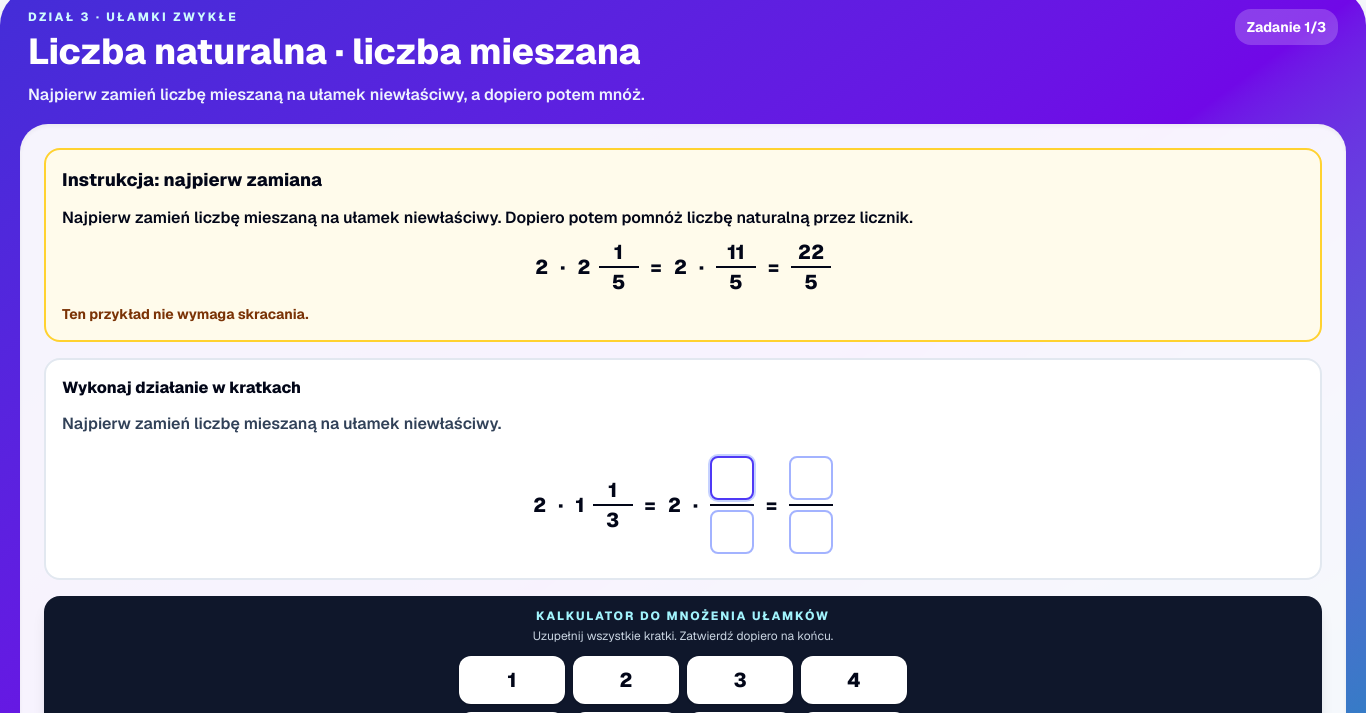
Scenario: FractionOperationsLessonModel › wymaga zamiany liczby mieszanej przed mnożeniem
expect the heading "Liczba naturalna · liczba mieszana" is shown: met, box x1=28 y1=29 x2=645 y2=74
expect the text "Najpierw zamień liczbę mieszaną na ułamek niewłaściwy" is shown: met, box x1=28 y1=84 x2=645 y2=105
Click the button "4": (854, 680) x1=801 y1=656 x2=907 y2=704
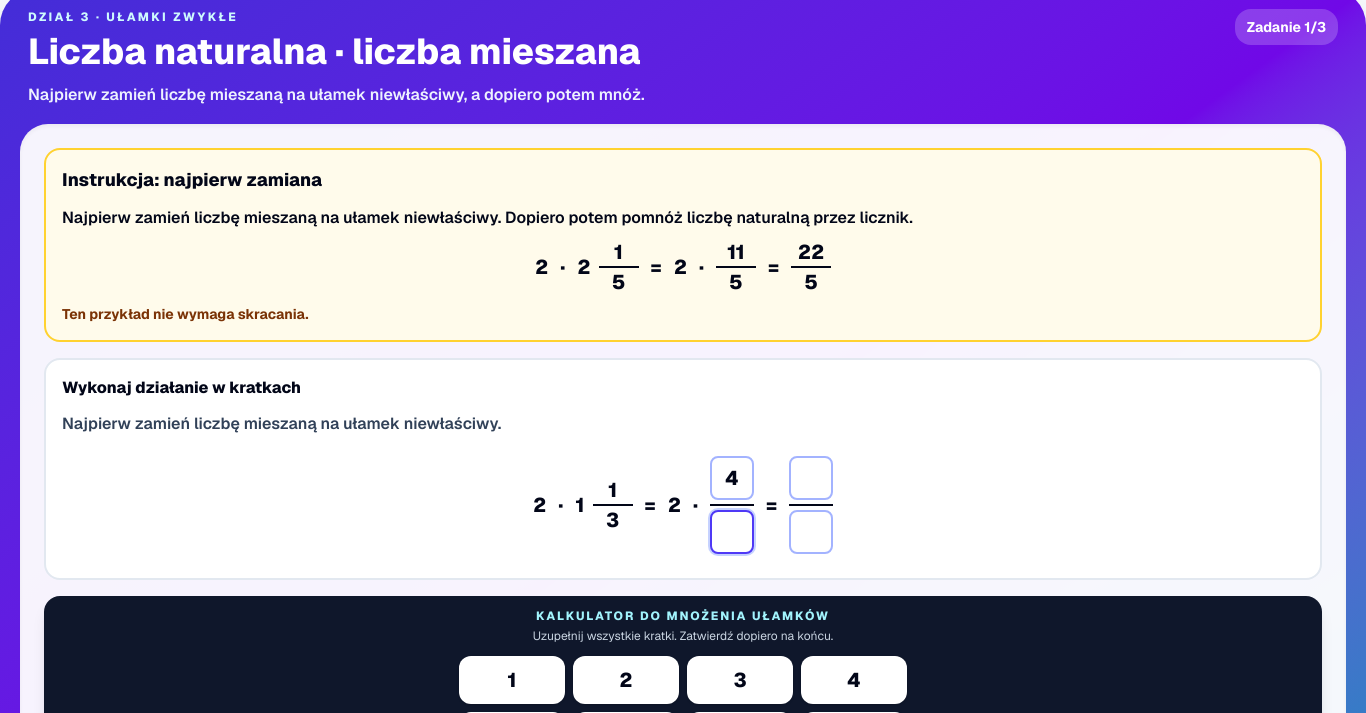
Click the button "3": (740, 680) x1=687 y1=656 x2=793 y2=704
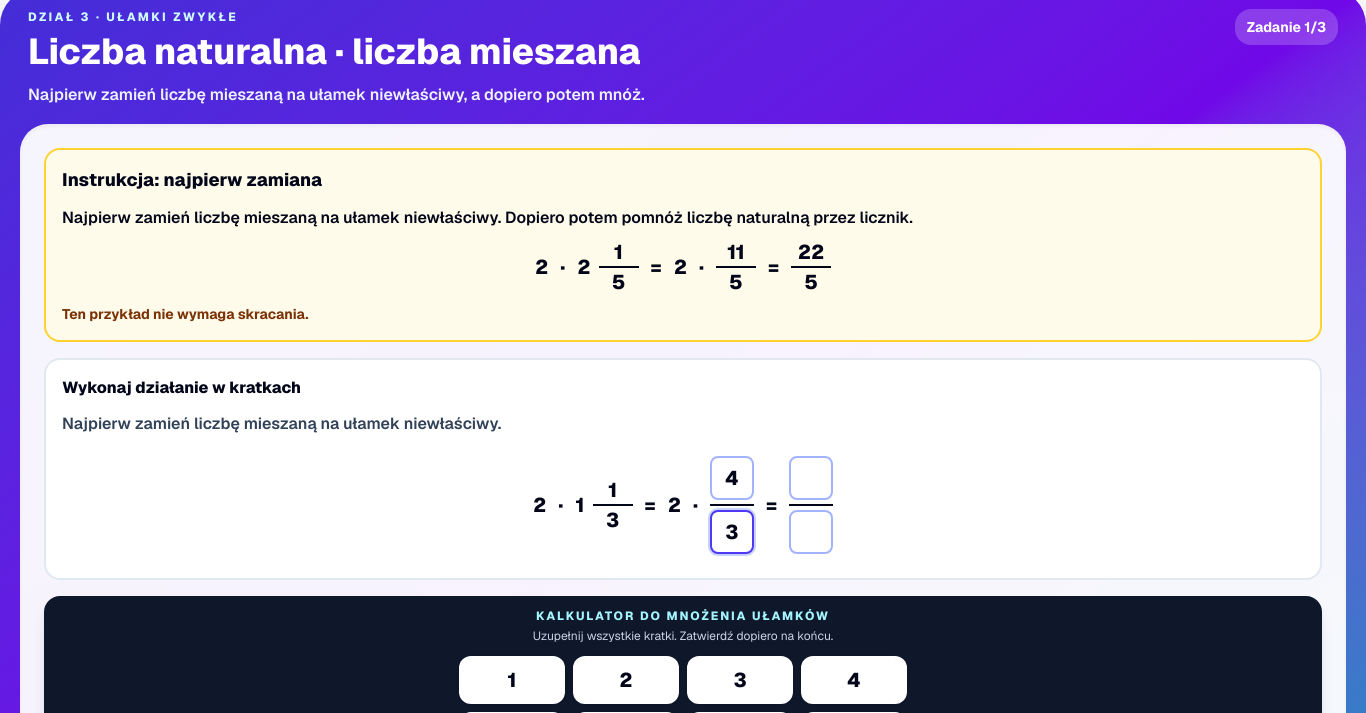
Click the field named "Wynik: licznik, cyfra 1 z 1": (811, 478) x1=789 y1=456 x2=833 y2=500
(page scrolled)
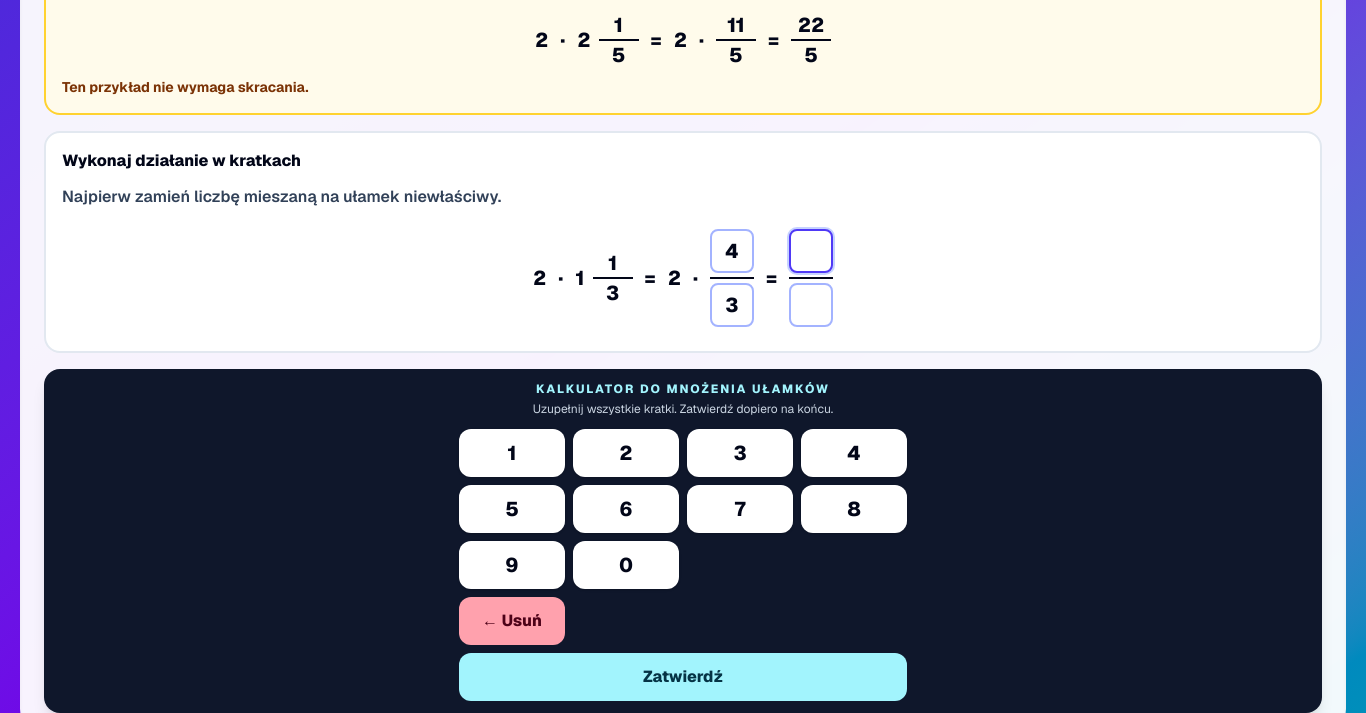
Click the button "8": (854, 509) x1=801 y1=485 x2=907 y2=533
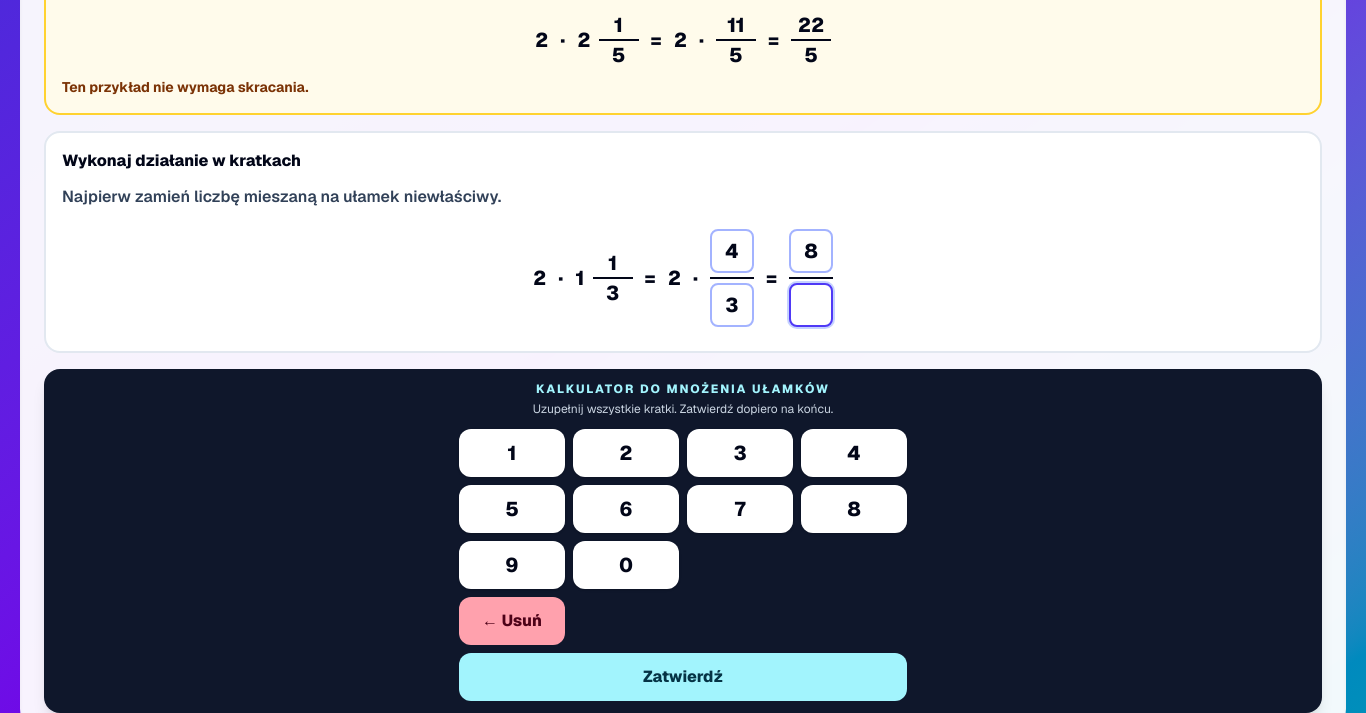
Click the button "3": (740, 453) x1=687 y1=429 x2=793 y2=477
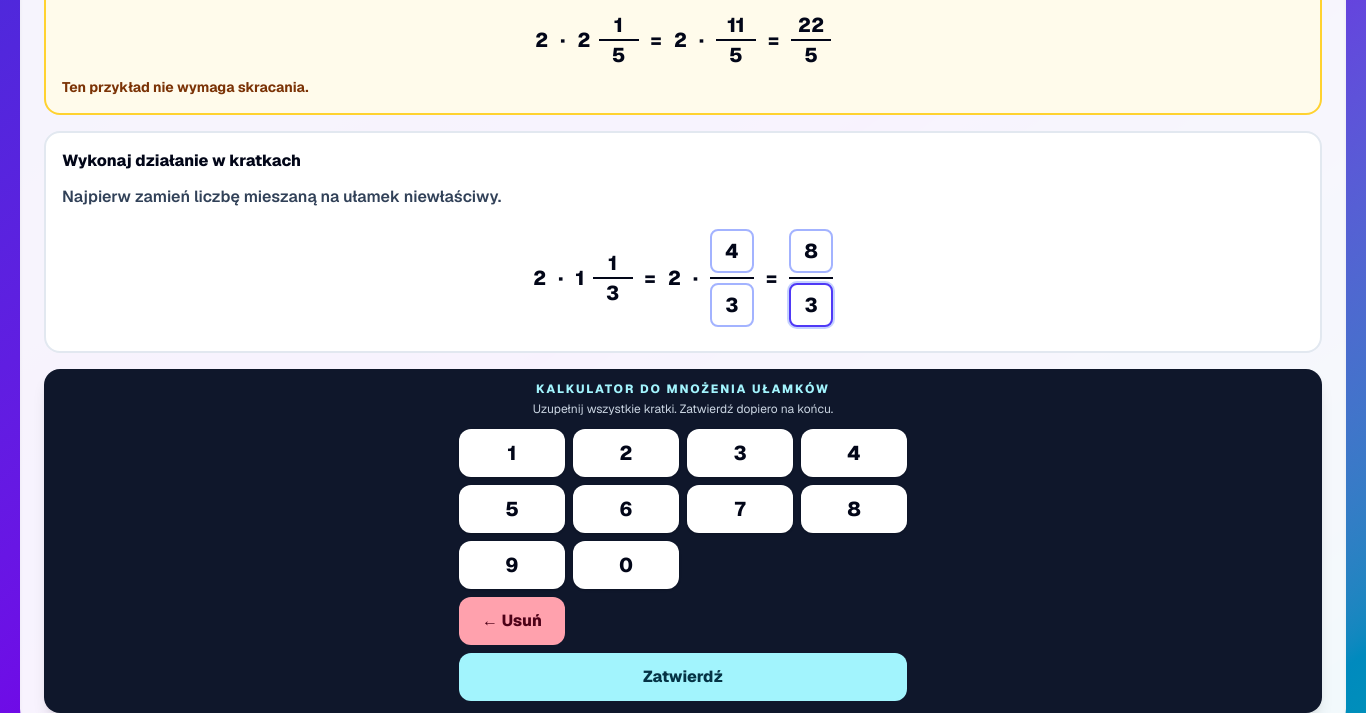
Click the button "Zatwierdź": (683, 677) x1=459 y1=653 x2=907 y2=701
(page scrolled)
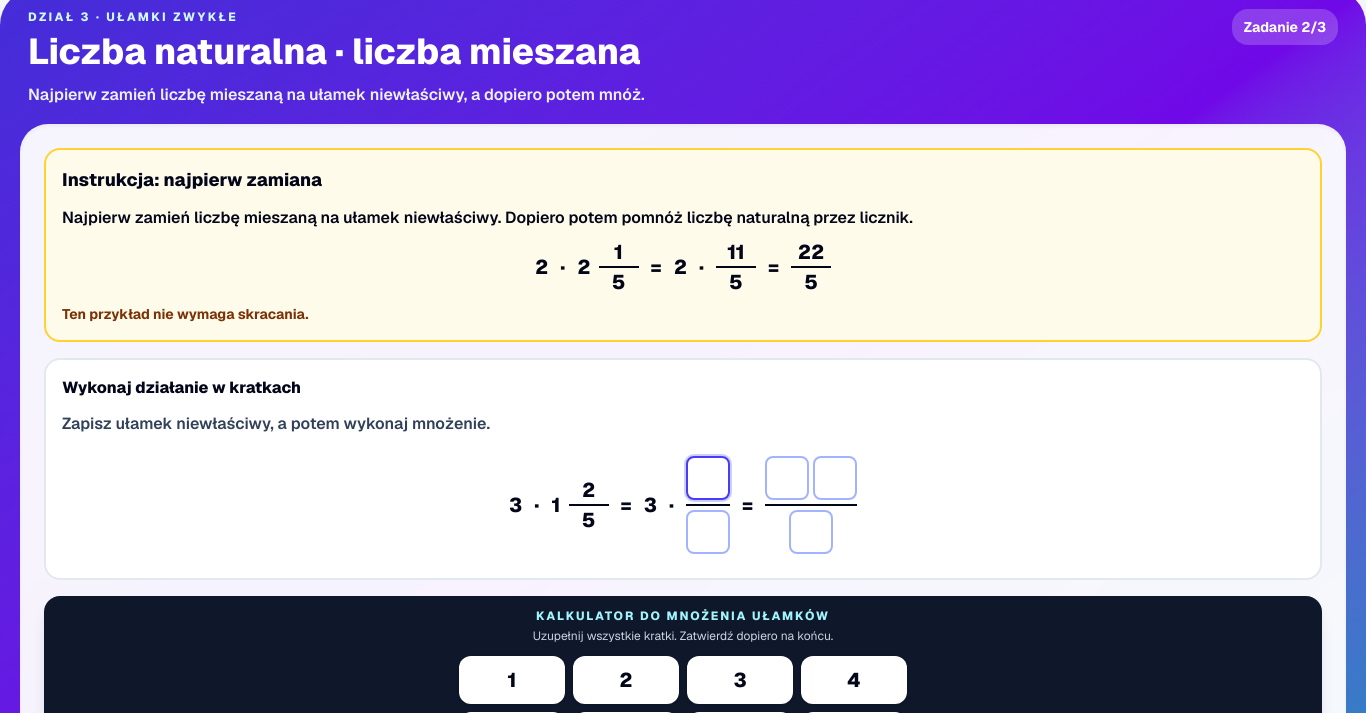
expect the text "Zadanie 2/3" is shown: met, box x1=1232 y1=9 x2=1338 y2=45
